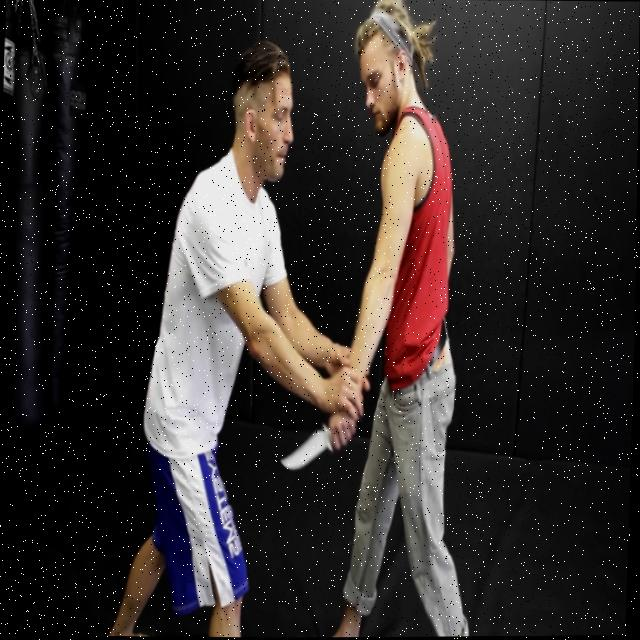knife: (276, 422, 332, 485)
